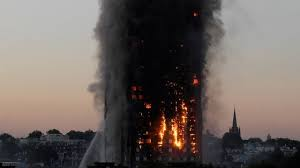fire: (135, 64, 210, 157)
